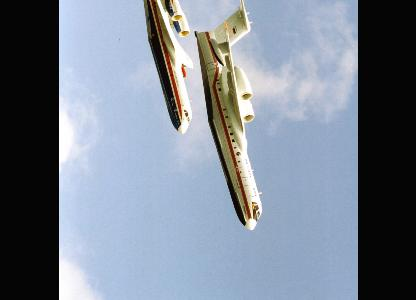B52: (193, 0, 262, 231), (133, 0, 193, 135)
